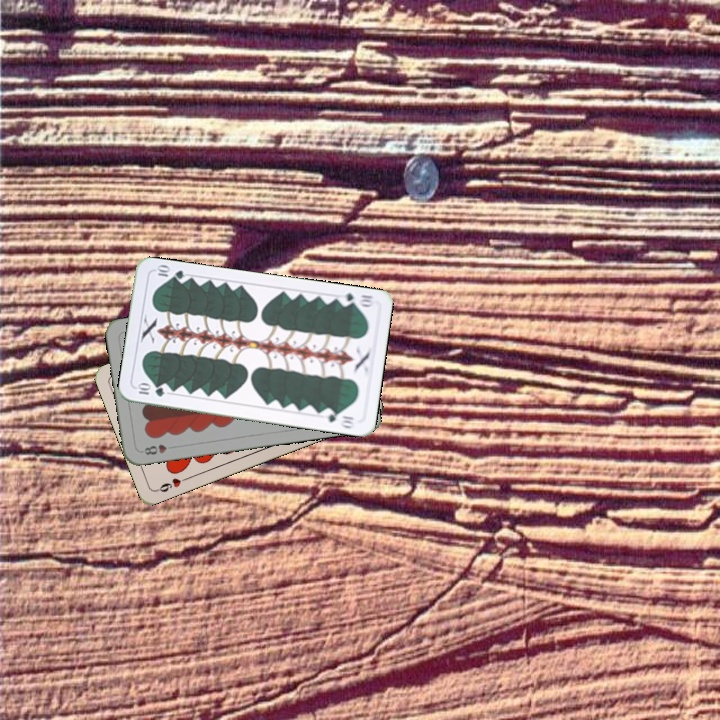G10: (335, 289, 377, 310), (134, 381, 167, 399)
H8: (140, 440, 178, 457)
H9: (153, 473, 191, 495)
